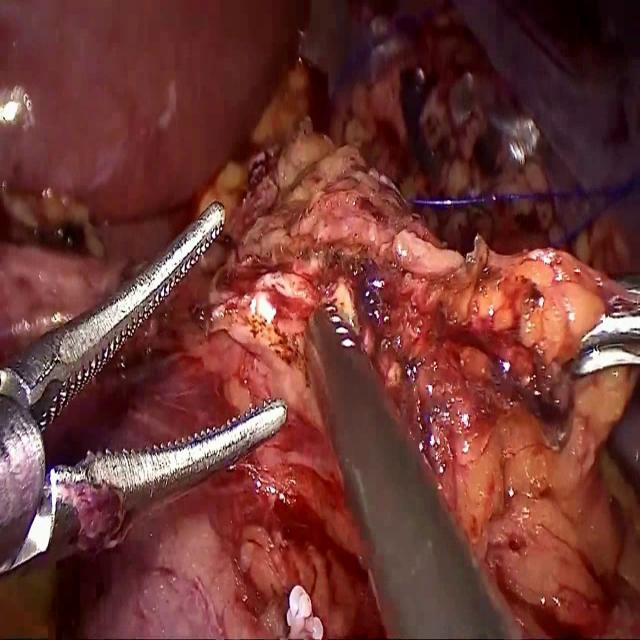surgical-tool: (0, 201, 288, 583), (302, 298, 522, 639), (569, 280, 640, 374)
